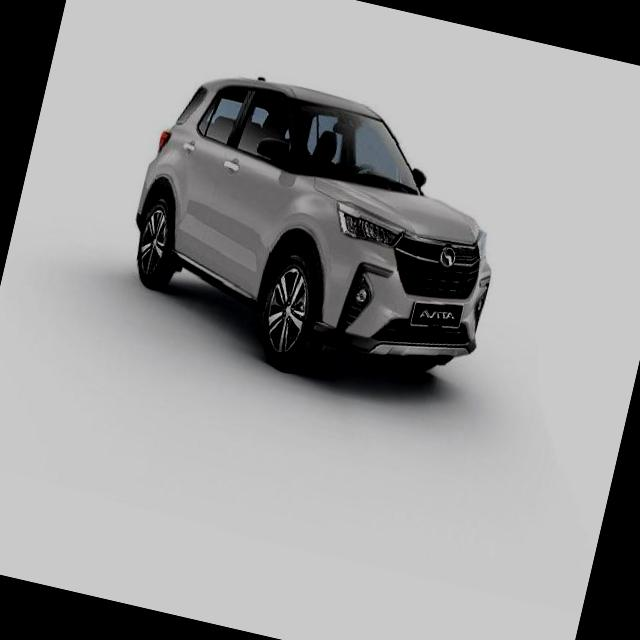PeroduaAtiva: (108, 54, 526, 413)
